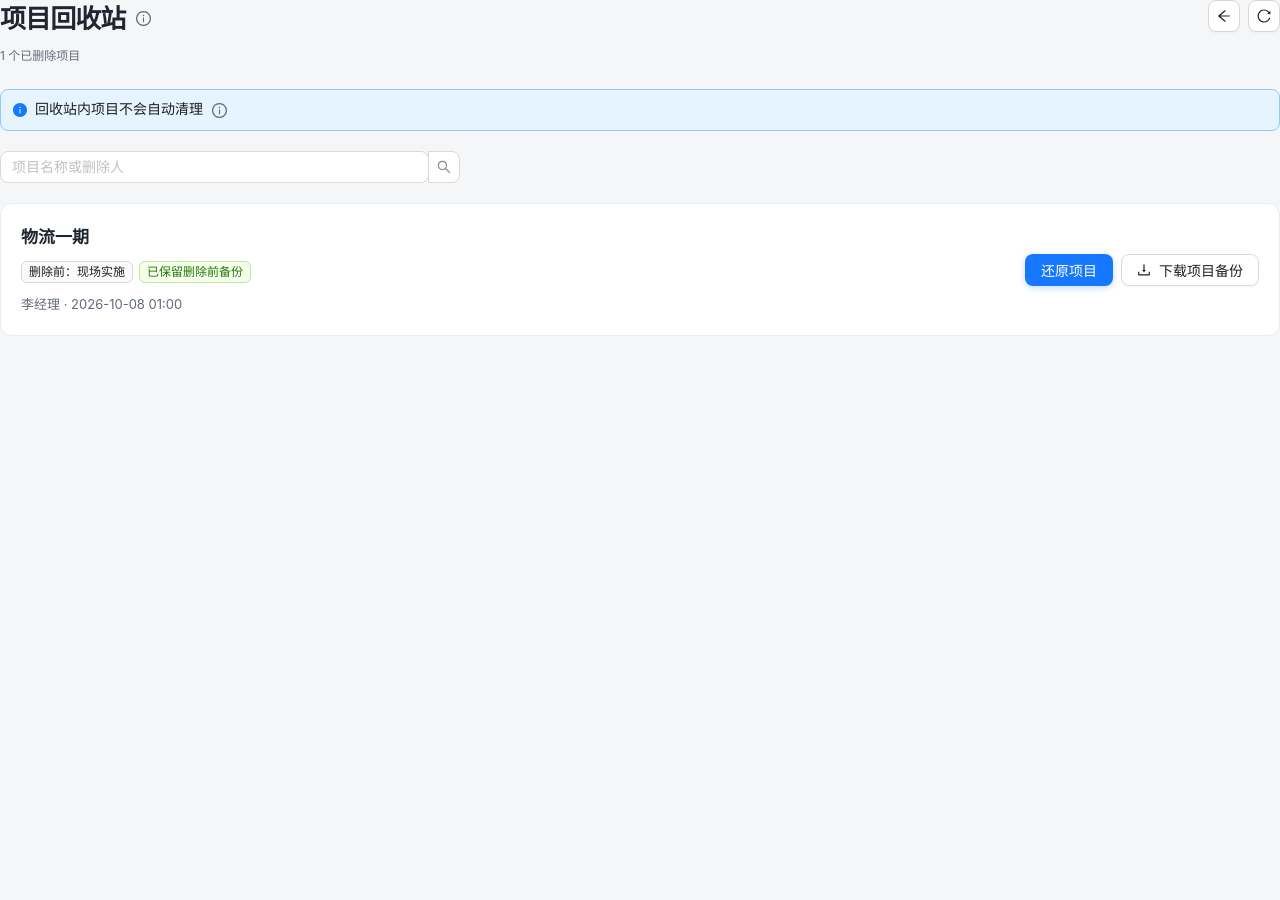
Test case: serializes repeated restoration clicks and locks cancellation during its response
Step 1. Click the button with aria-label "还原项目：物流一期" → (1069, 270), box [1025,254,1113,286]
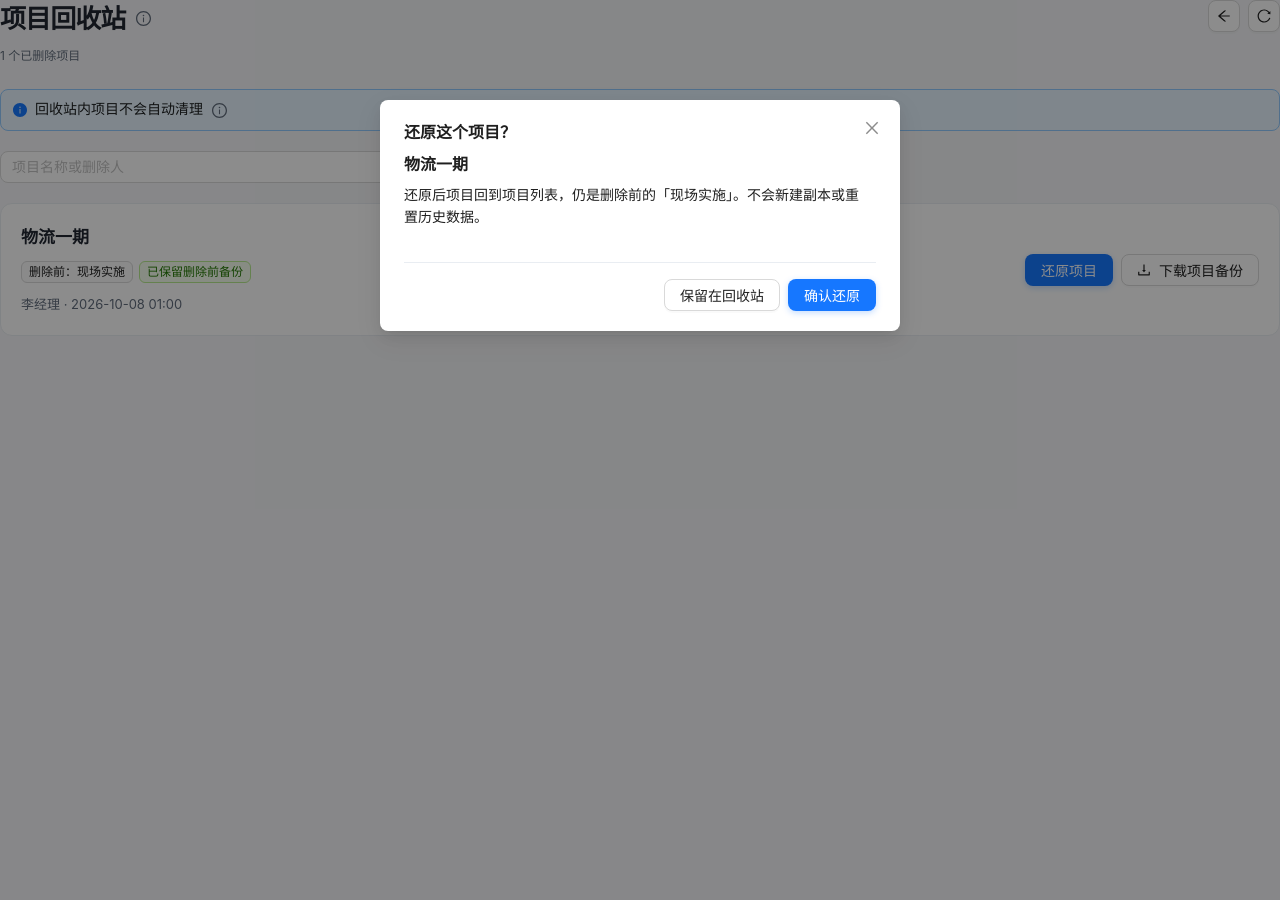
Step 2. Click the button "确认还原" → (832, 295), box [788,279,876,311]
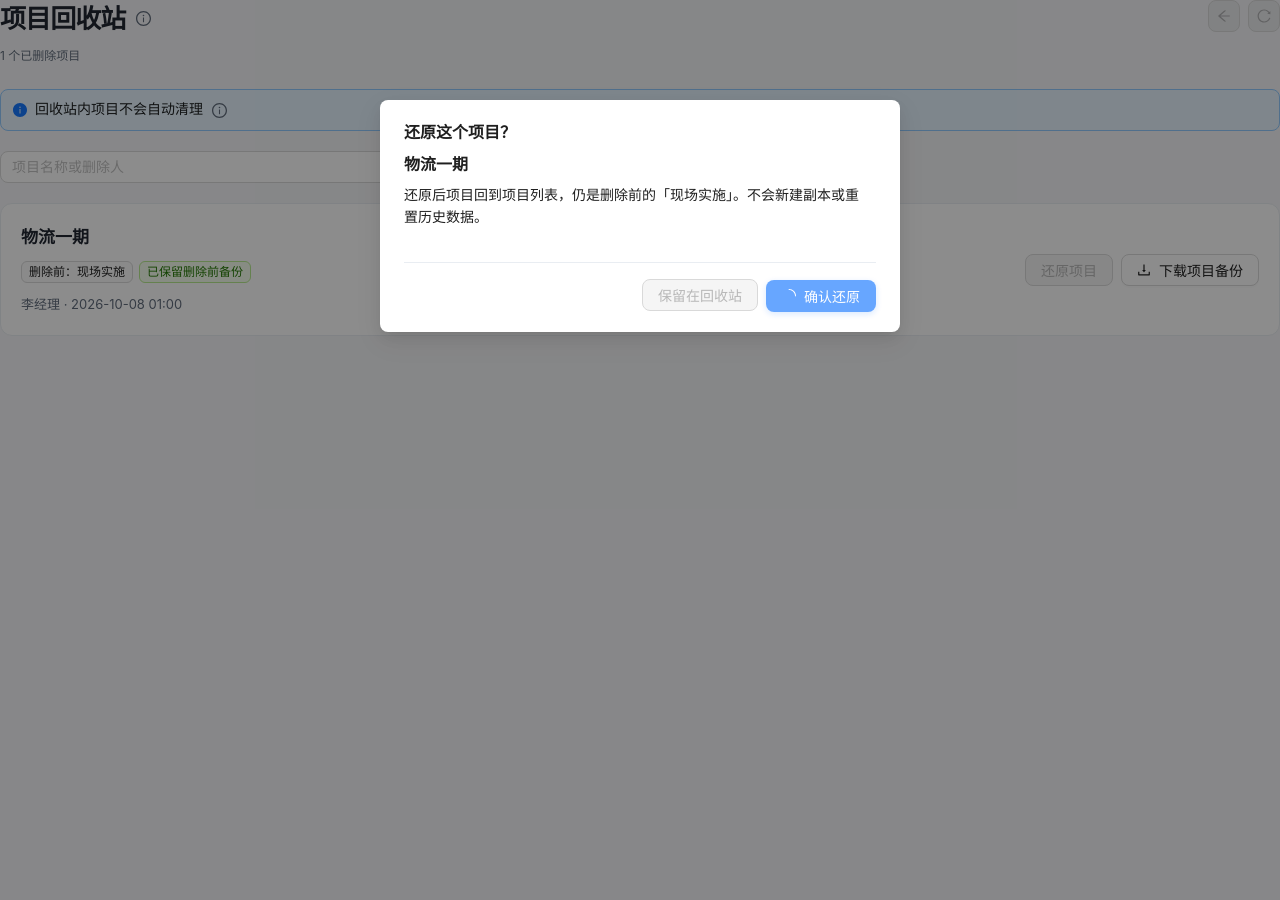
Step 3. Click the button "确认还原" → (821, 296), box [766,280,876,312]
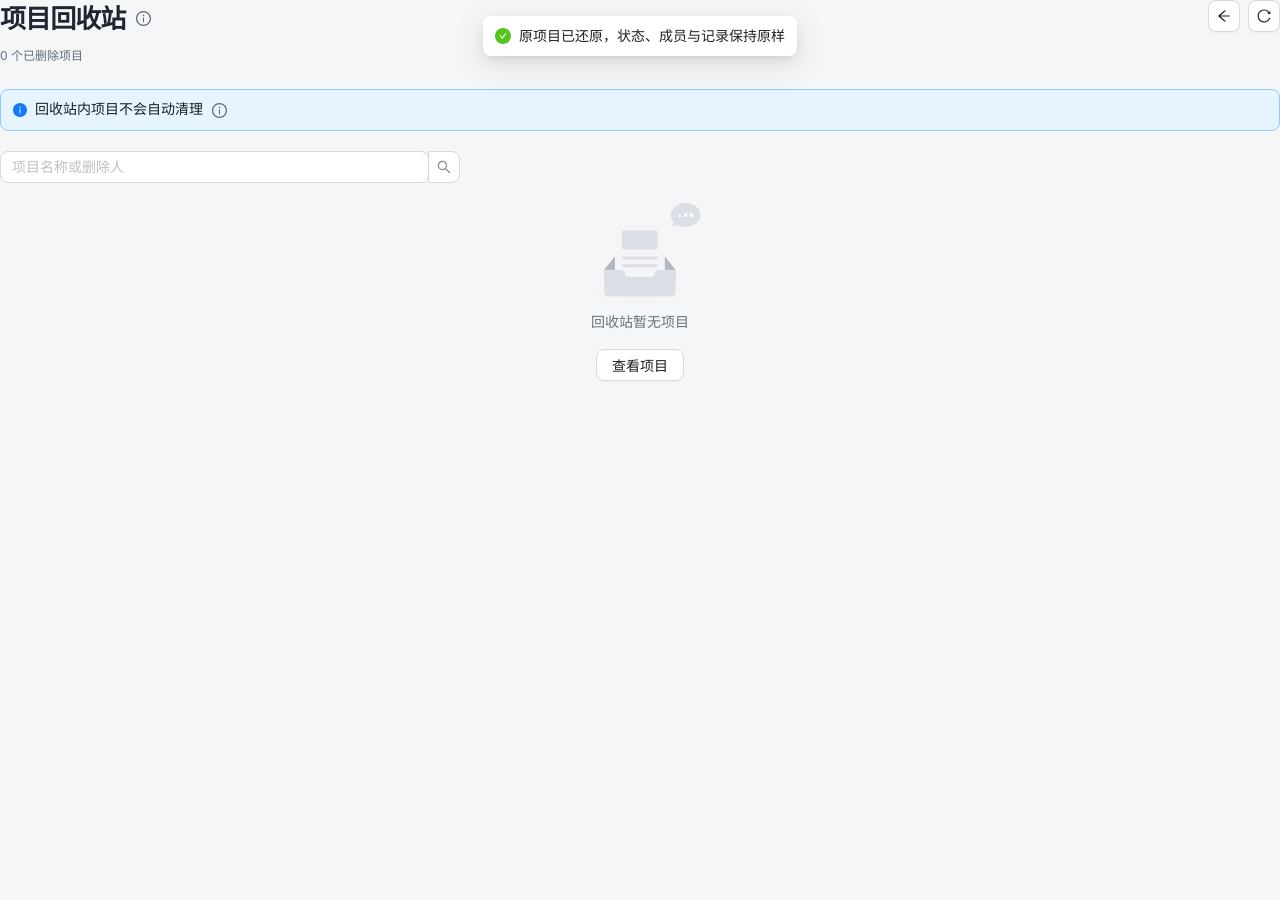
Expected: the text "回收站暂无项目" is shown, [591,313,689,330]
